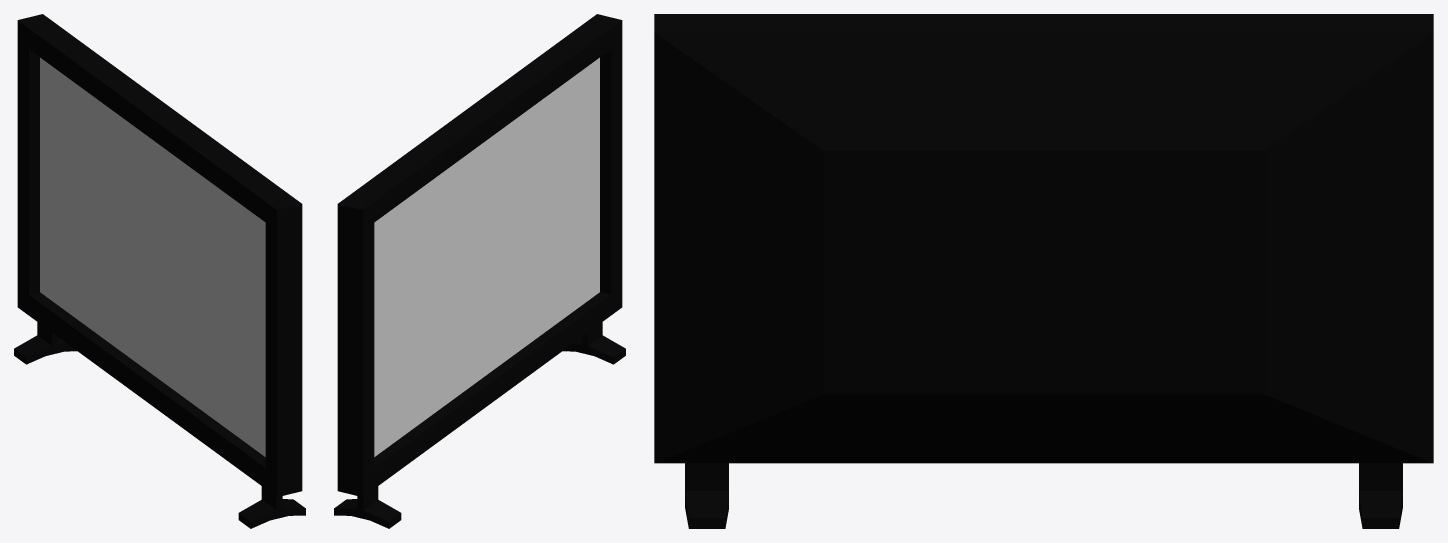
3 views of the same model, side by side, from view 1: azimuth 30°, elevation 25°; view 2: azimuth 150°, elevation 25°; view 3: azimuth 270°, elevation 25° (orthographic). The views are drawn at different scales.
Parts seen in each view (by area): view 1: TV; view 2: TV; view 3: TV.
Boxes of the visible parts, left/top/right/bottom form: TV: left=14, top=14, right=305, bottom=528; TV: left=334, top=14, right=625, bottom=528; TV: left=654, top=14, right=1433, bottom=528.
Bounding box in the file's own units: 82.7 × 347 × 504.
